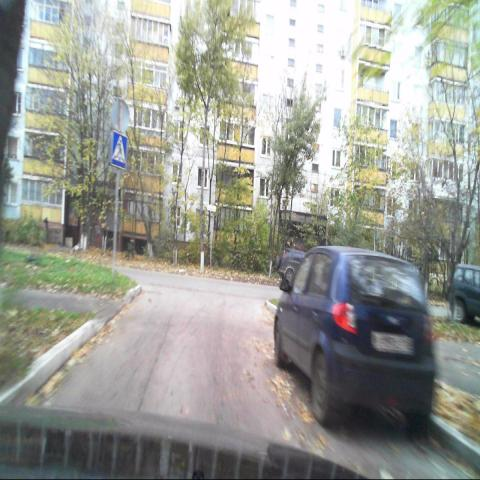5_19_1: (112, 131, 128, 170)
